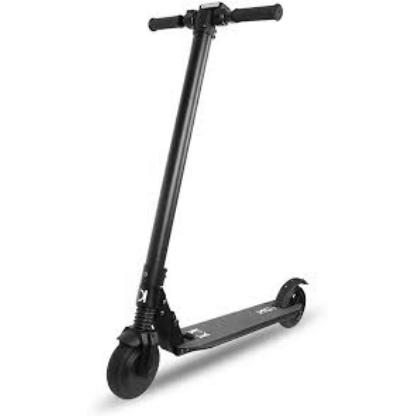bike: (105, 1, 312, 401)
